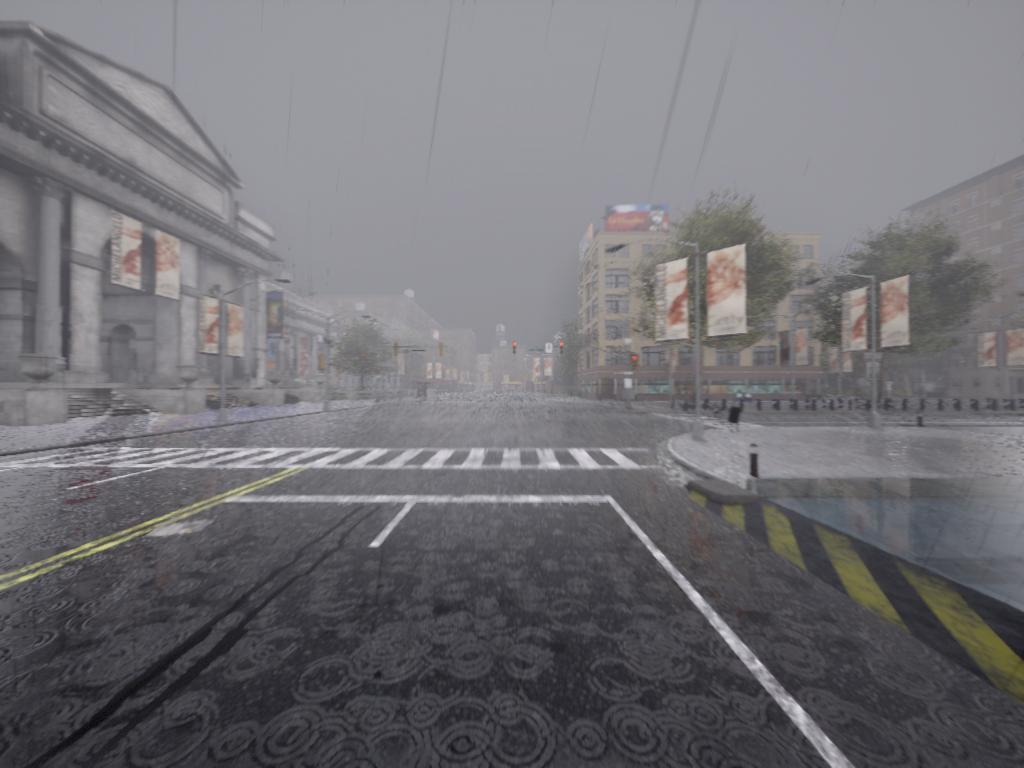traffic_light: (319, 354, 327, 372), (632, 354, 639, 372), (393, 342, 400, 358), (513, 342, 519, 355), (440, 344, 446, 357), (561, 343, 565, 356)
